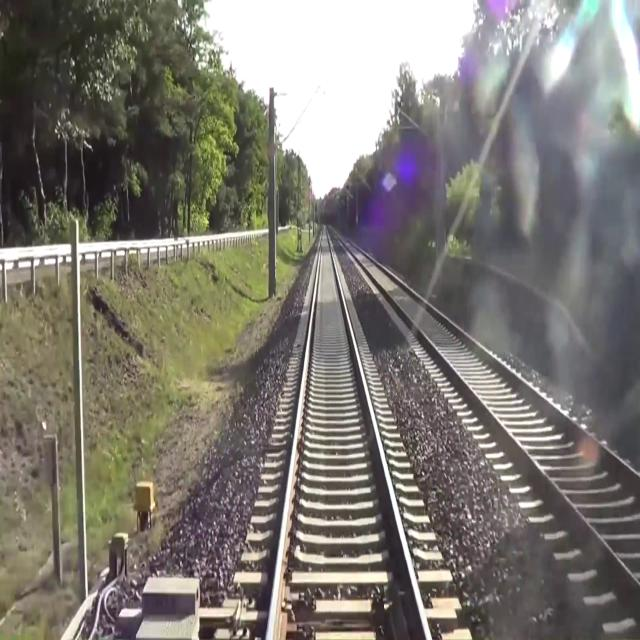rail-track: (334, 230, 640, 578), (270, 225, 427, 639)
